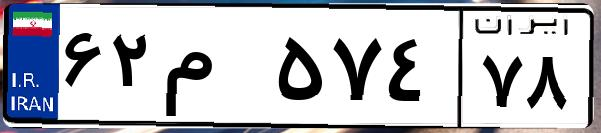2: (110, 28, 158, 98)
4: (385, 28, 445, 110)
5: (270, 28, 330, 110)
6: (57, 26, 110, 100)
7: (330, 28, 385, 110), (475, 38, 525, 113)
8: (525, 38, 570, 115)
م: (158, 20, 270, 120)
